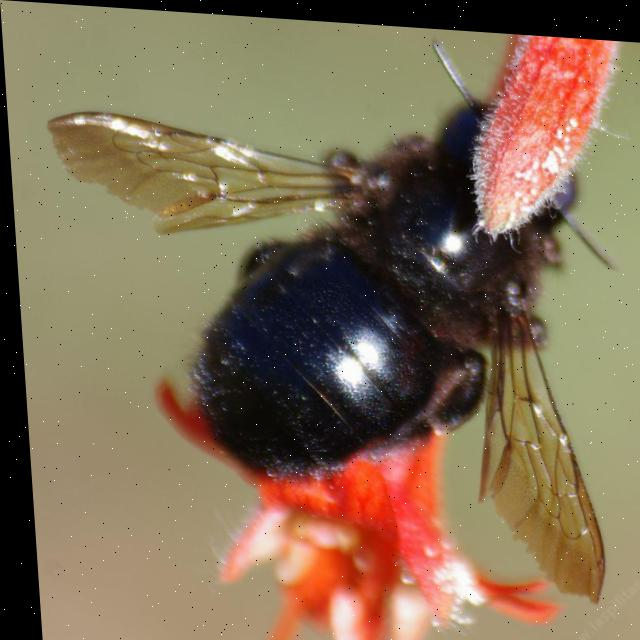Xylocopa: (37, 34, 640, 624)
